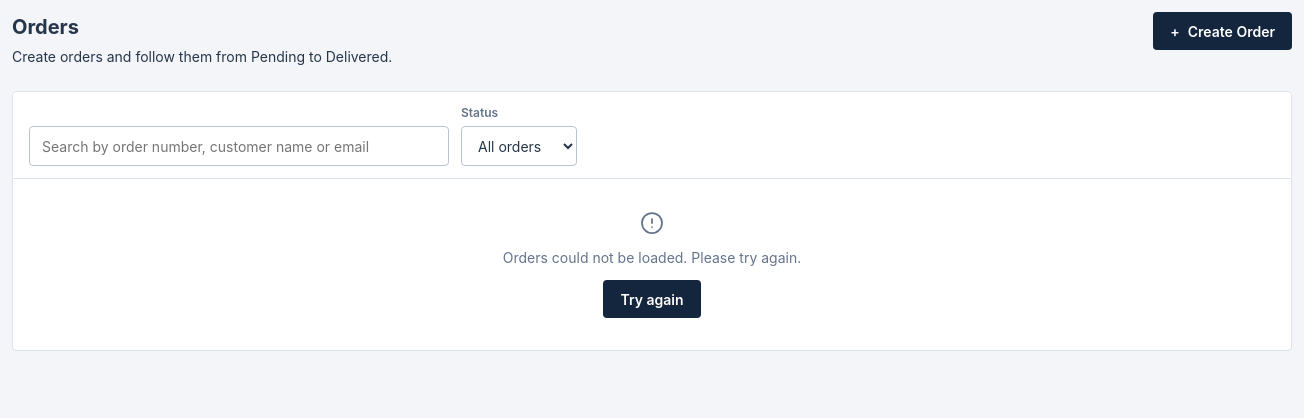
list › shows an error state with Try again
Check: the message shows "could not be loaded", box [503, 249, 801, 266]
Click the button "Try again" at (652, 299), box [604, 280, 701, 318]
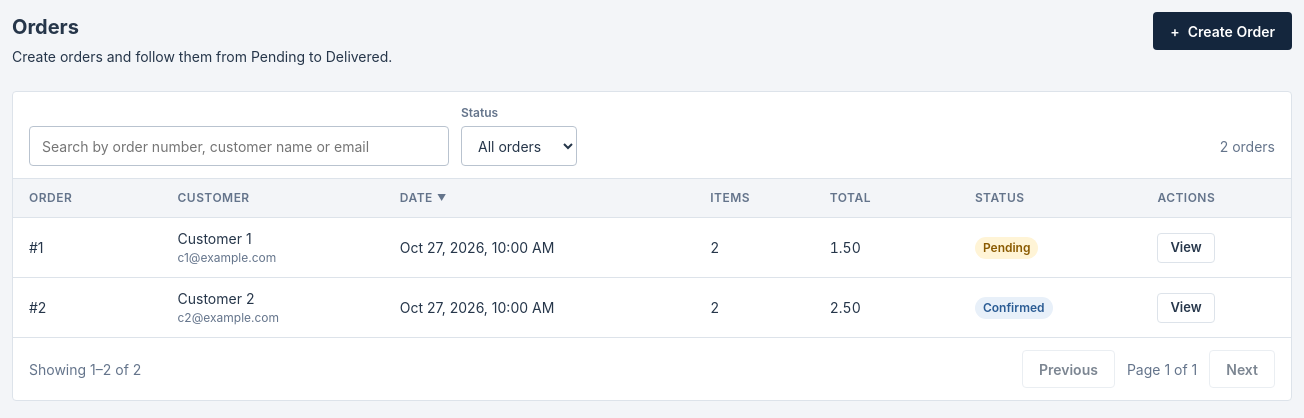
Check: the text "Customer 1" is shown, box [178, 230, 252, 247]
